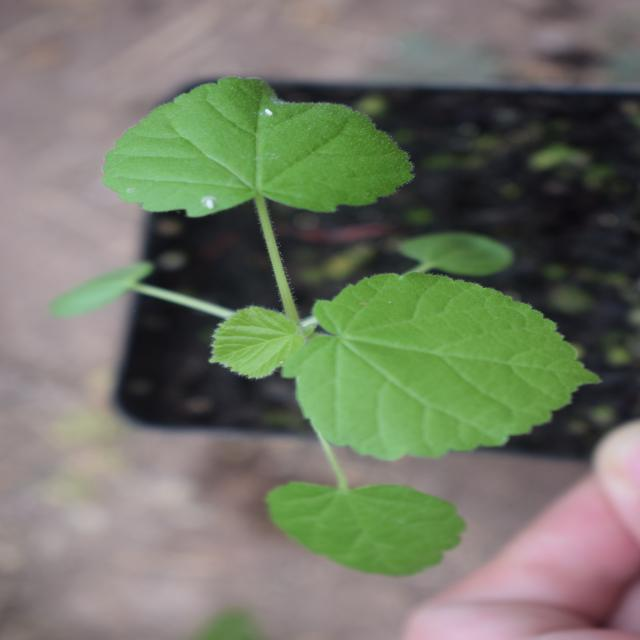abutilon theophrasti: (53, 92, 548, 571)
